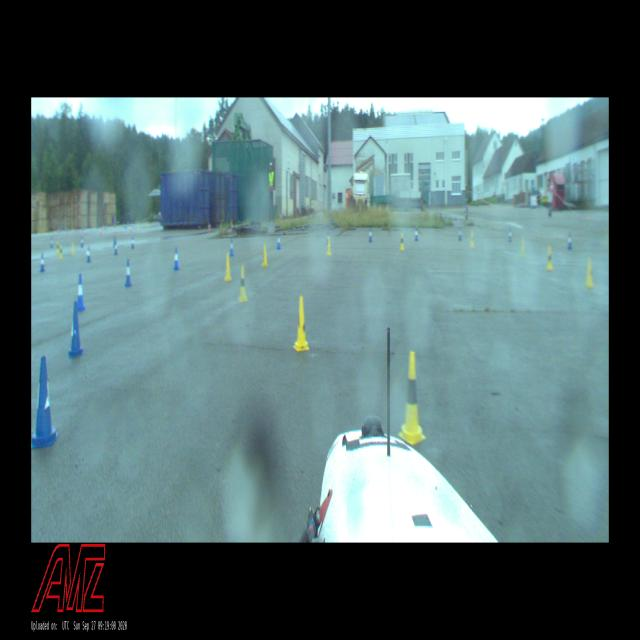blue_cone: (31, 356, 56, 446), (69, 302, 83, 356), (78, 274, 84, 310), (125, 259, 132, 286), (174, 247, 179, 270), (229, 239, 234, 255), (40, 253, 44, 272), (568, 232, 572, 249), (86, 246, 90, 262), (276, 234, 280, 248), (508, 228, 512, 242), (415, 228, 419, 241), (114, 239, 117, 255), (459, 228, 462, 240), (50, 237, 53, 248), (370, 229, 372, 242), (132, 236, 134, 248), (81, 236, 83, 247)
yellow_cone: (402, 350, 423, 442), (295, 296, 308, 350), (239, 266, 247, 300), (225, 254, 232, 280), (587, 261, 594, 287), (546, 246, 552, 270), (262, 246, 268, 266), (520, 236, 525, 258), (400, 233, 404, 250), (470, 232, 474, 248), (327, 238, 331, 254), (60, 246, 63, 260), (72, 243, 75, 255), (57, 241, 59, 253)
